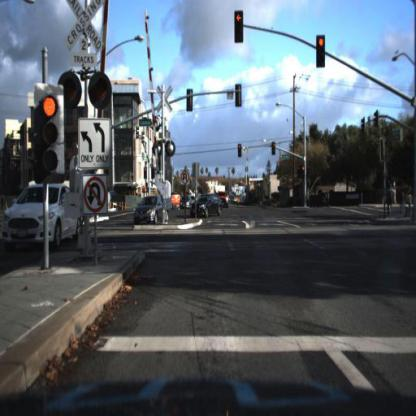car: (3, 182, 80, 249), (130, 192, 170, 225), (188, 195, 221, 222), (215, 191, 231, 211)
pedestrian: (387, 184, 395, 218), (400, 188, 406, 218)
trafficLight-Red: (36, 86, 66, 176), (316, 37, 325, 63), (237, 141, 244, 161), (272, 140, 278, 157), (301, 162, 306, 174)
trafficLight-RedLeft: (234, 11, 243, 43)
